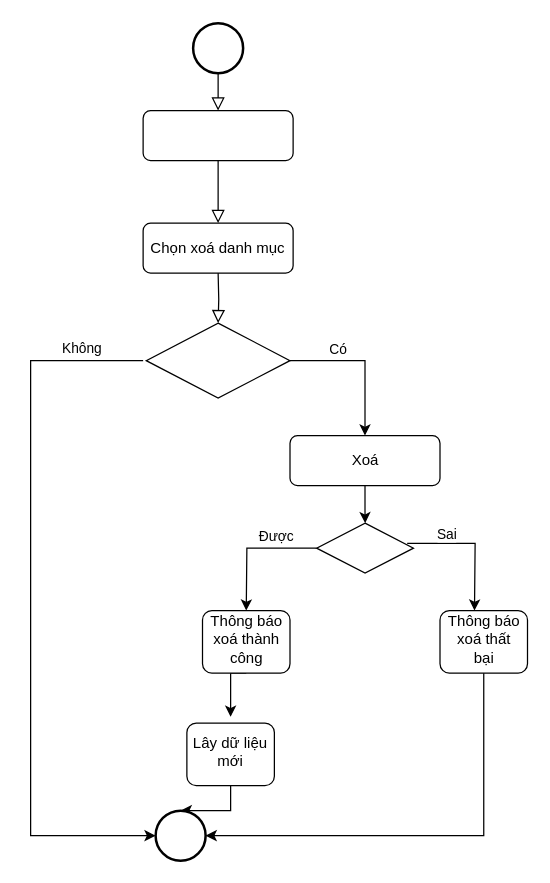
The diagram is 550 pixels wide and 883 high, and some of its shapes have lost their labels. Here are the shapes that lost their labels. From the top down, the centre of each, then its label:
At pixel 217 135: "Danh mục sản phẩm".
At pixel 217 360: "Xác nhận".
